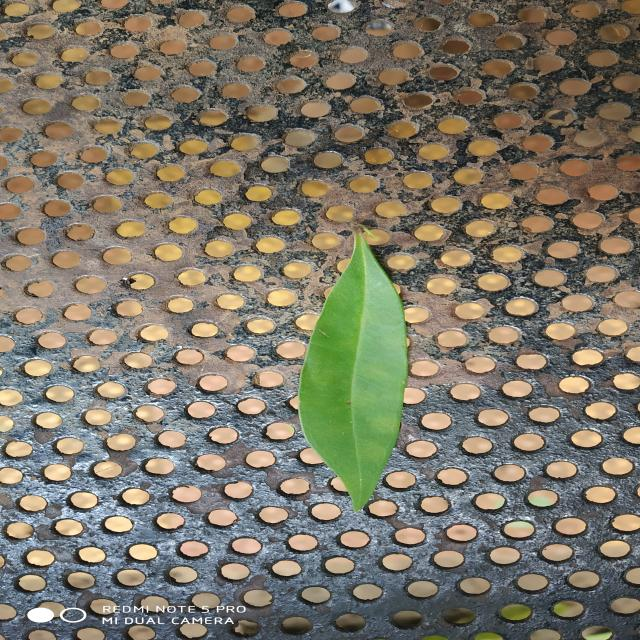nerale: (300, 234, 409, 511)
